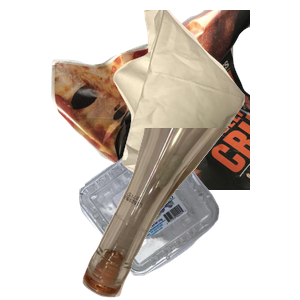glass: (80, 128, 300, 300)
paper: (49, 10, 289, 190)
plastic: (77, 133, 289, 300)
trash: (111, 10, 300, 190)
